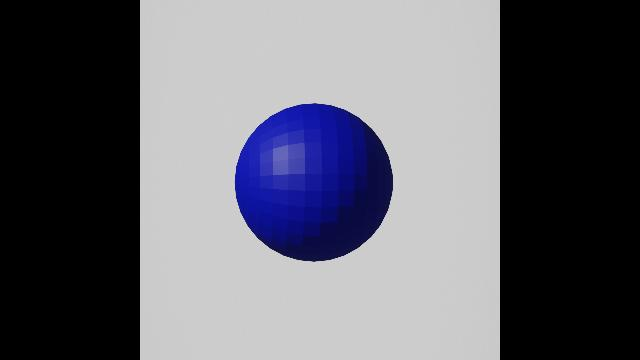Sphere: (228, 80, 398, 270)
